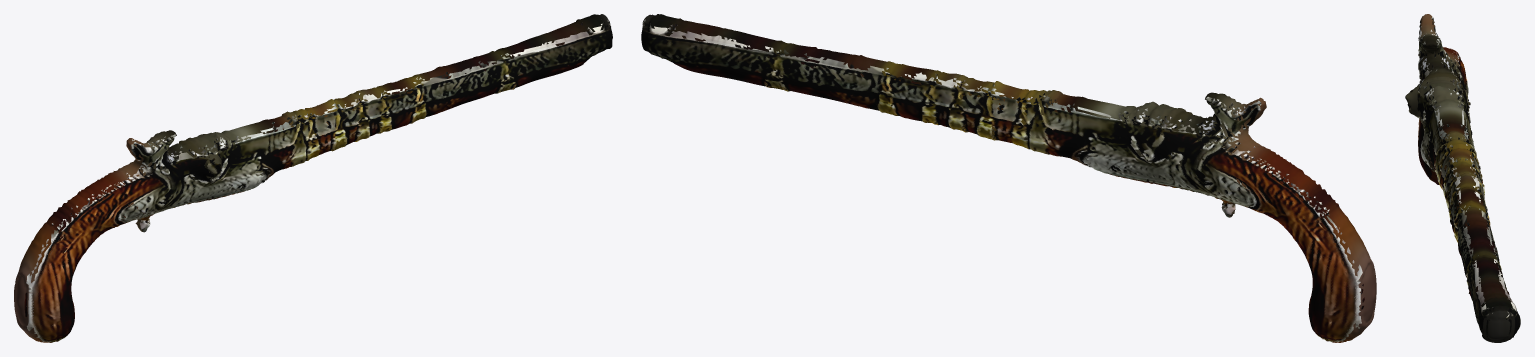
File: kfl-2248.glb
3 views of the same model, side by side, from view 1: azimuth 30°, elevation 25°; view 2: azimuth 150°, elevation 25°; view 3: azimuth 270°, elevation 25° (orthographic). The views are drawn at different scales.
Visible parts, largest first — view 1: kfl-2248; view 2: kfl-2248; view 3: kfl-2248.
Boxes of the visible parts, x1,y1,x2,y2 form: kfl-2248: [14, 14, 612, 342]; kfl-2248: [641, 14, 1376, 342]; kfl-2248: [1405, 14, 1520, 342].
Size of the model in its own units: 0.9935 by 0.2921 by 0.1479.
4 materials, 4 textured.
